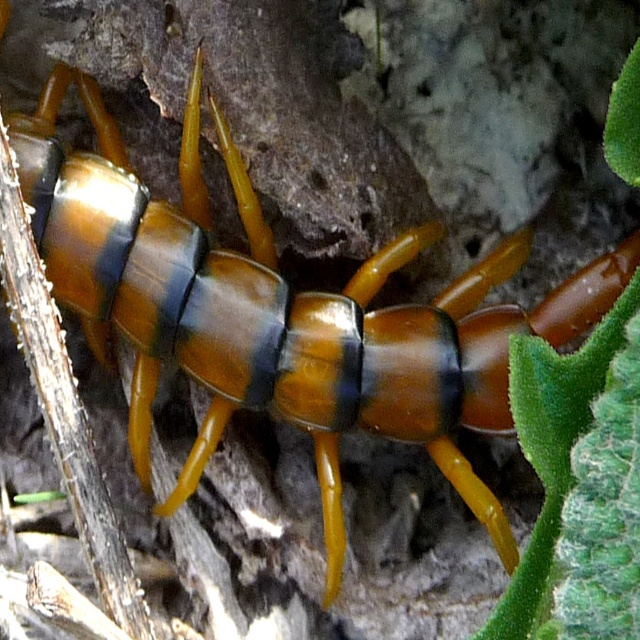Centipede: (0, 43, 639, 604)
